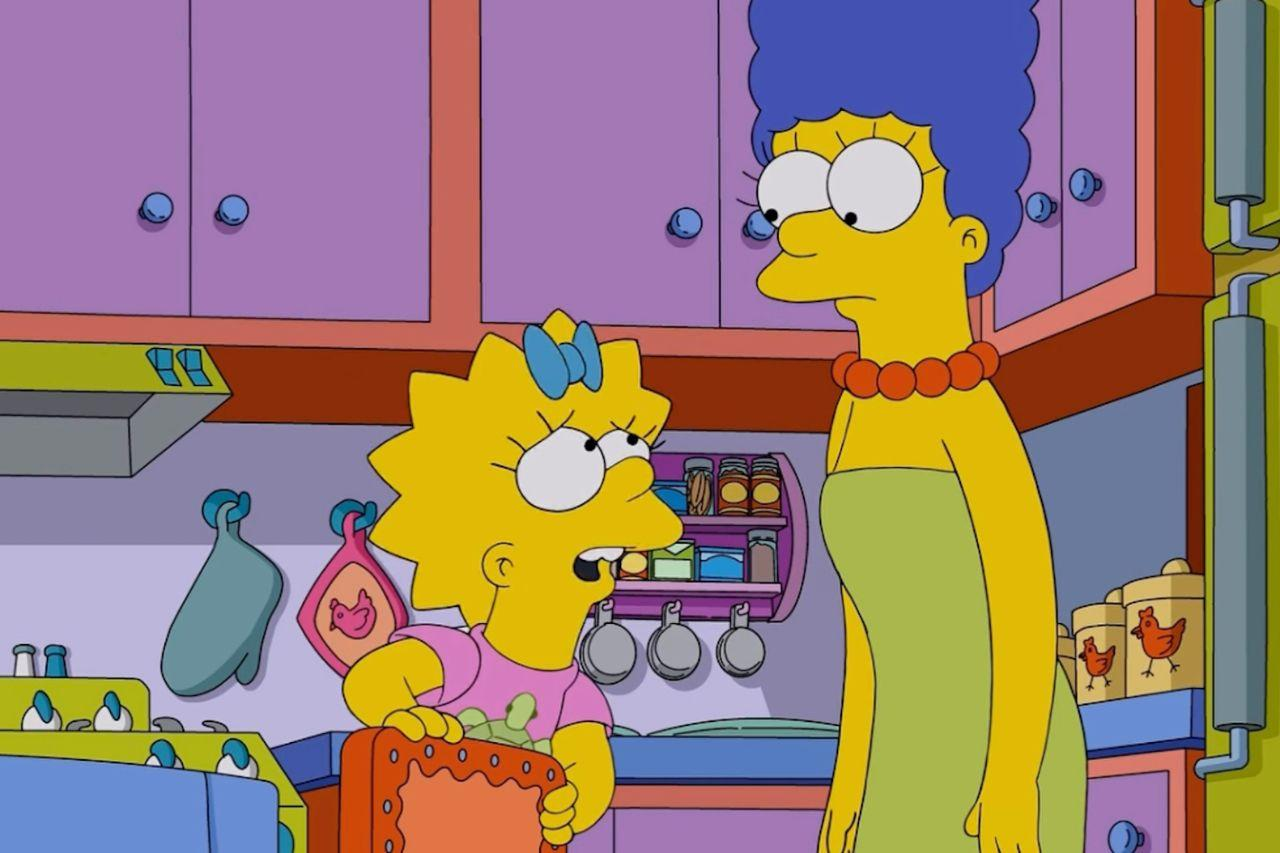Maggie: (355, 302, 719, 811)
Marge: (731, 5, 1118, 853)
